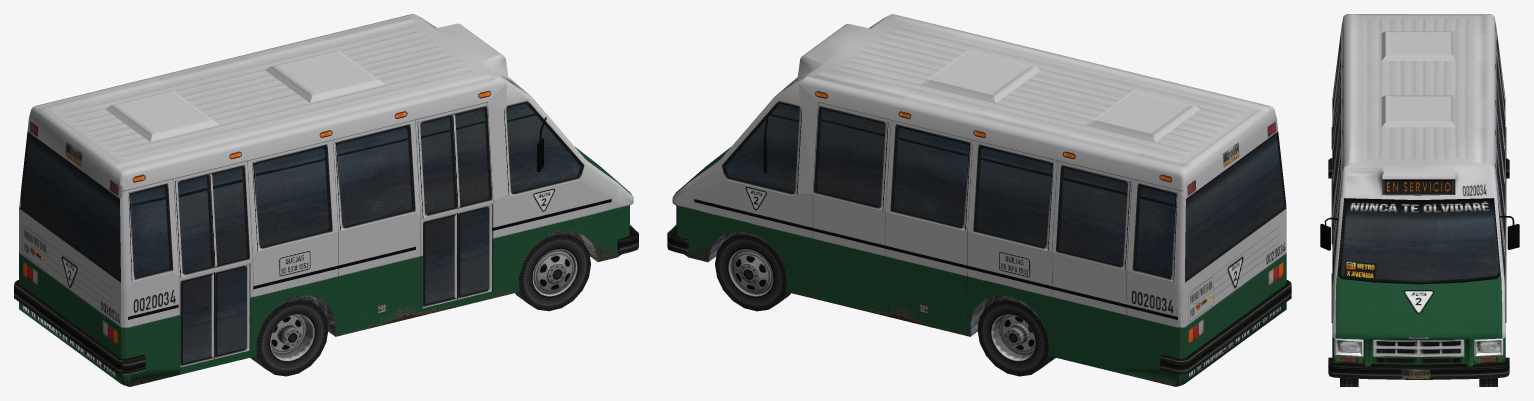
File: Microbus.obj
3 views of the same model, side by side, from view 1: azimuth 30°, elevation 25°; view 2: azimuth 150°, elevation 25°; view 3: azimuth 270°, elevation 25° (orthographic). The views are drawn at different scales.
Visible parts, largest first — view 1: Tube001; view 2: Tube001; view 3: Tube001.
Boxes of the visible parts, x1=… form: Tube001: x1=14, y1=14, x2=638, y2=386; Tube001: x1=667, y1=14, x2=1291, y2=386; Tube001: x1=1320, y1=14, x2=1519, y2=386.
Bounding box in the file's own units: 6.03 × 2.69 × 2.4.
